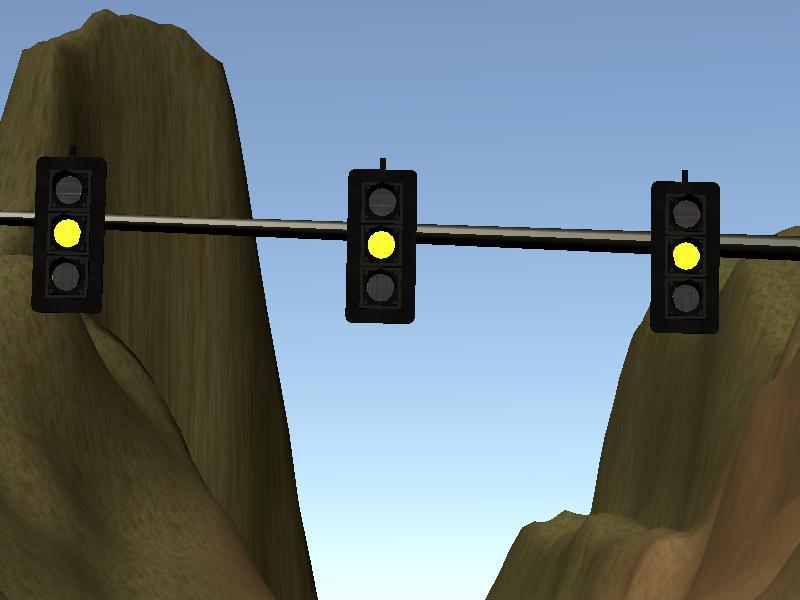Yellow: (346, 168, 415, 323), (34, 156, 102, 309), (651, 182, 718, 330)
